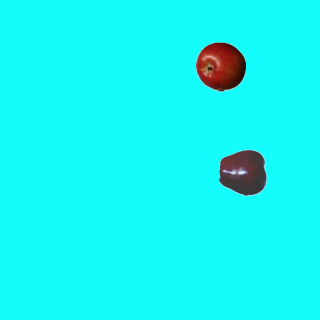Apple Braeburn: (195, 41, 245, 91)
Apple Red Delicious: (218, 147, 268, 197)
